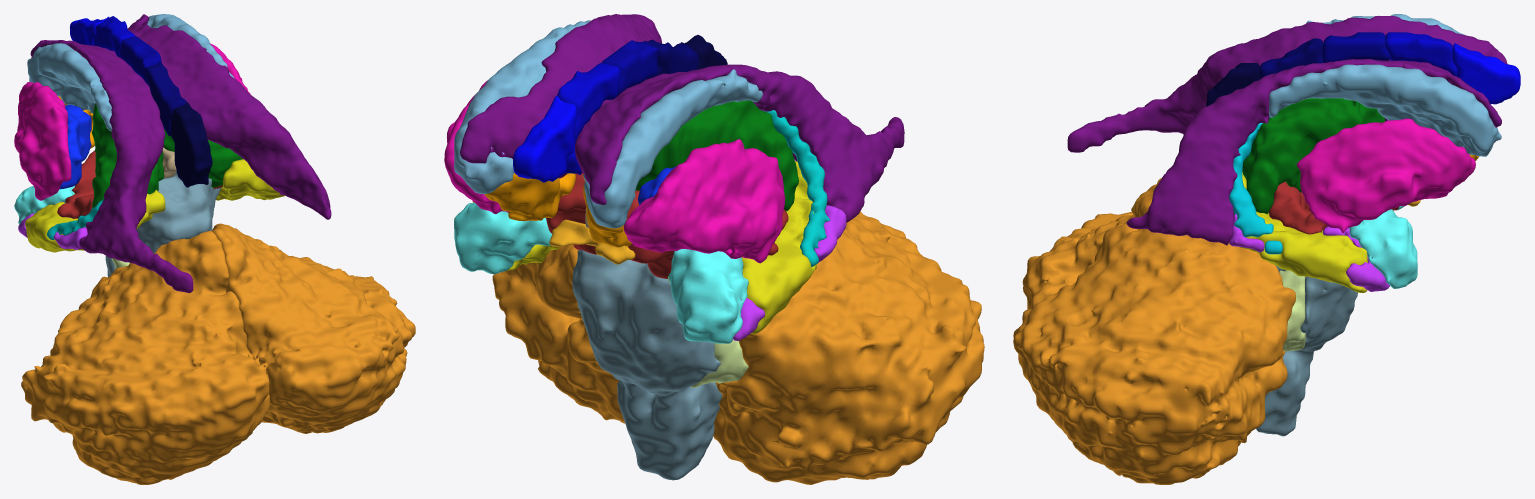
The model's file is structures.glb.
The picture shows the model from 3 angles, left to right: view 1: azimuth 30°, elevation 25°; view 2: azimuth 150°, elevation 25°; view 3: azimuth 270°, elevation 25°; orthographic projection. The views are drawn at different scales.
Parts seen in each view (by area): view 1: aseg:left:8, aseg:right:47, aseg:right:43, aseg:left:4, aseg:left:12, aseg:midline:16, aseg:left:11, aseg:midline:251, aseg:left:10, aseg:left:17, aseg:right:53, aseg:left:13 (+10 smaller); view 2: aseg:left:8, aseg:midline:16, aseg:left:4, aseg:left:12, aseg:right:47, aseg:right:43, aseg:left:11, aseg:left:18, aseg:left:10, aseg:right:50, aseg:left:17, aseg:right:54 (+14 smaller); view 3: aseg:right:47, aseg:right:43, aseg:right:51, aseg:right:50, aseg:left:4, aseg:right:49, aseg:midline:16, aseg:right:53, aseg:left:8, aseg:right:54, aseg:midline:255, aseg:right:63 (+7 smaller).
Part boxes in pixels (x1=…): aseg:left:8: x1=21, y1=231, x2=269, y2=484; aseg:right:47: x1=212, y1=223, x2=415, y2=433; aseg:right:43: x1=127, y1=14, x2=331, y2=219; aseg:left:4: x1=30, y1=40, x2=193, y2=293; aseg:left:12: x1=14, y1=82, x2=71, y2=200; aseg:midline:16: x1=105, y1=171, x2=221, y2=277; aseg:left:11: x1=27, y1=43, x2=112, y2=131; aseg:midline:251: x1=170, y1=102, x2=212, y2=187; aseg:left:10: x1=92, y1=103, x2=164, y2=207; aseg:left:17: x1=25, y1=190, x2=165, y2=252; aseg:right:53: x1=216, y1=159, x2=285, y2=200; aseg:left:13: x1=59, y1=104, x2=91, y2=189; aseg:left:8: x1=713, y1=211, x2=984, y2=484; aseg:midline:16: x1=572, y1=249, x2=722, y2=480; aseg:left:4: x1=575, y1=64, x2=904, y2=222; aseg:left:12: x1=623, y1=139, x2=785, y2=263; aseg:right:47: x1=492, y1=244, x2=625, y2=423; aseg:right:43: x1=460, y1=14, x2=661, y2=178; aseg:left:11: x1=583, y1=69, x2=762, y2=228; aseg:left:18: x1=668, y1=249, x2=748, y2=343; aseg:left:10: x1=636, y1=100, x2=798, y2=211; aseg:right:50: x1=454, y1=20, x2=590, y2=194; aseg:left:17: x1=667, y1=161, x2=816, y2=334; aseg:right:54: x1=454, y1=202, x2=552, y2=274; aseg:right:47: x1=1013, y1=195, x2=1295, y2=484; aseg:right:43: x1=1126, y1=59, x2=1501, y2=245; aseg:right:51: x1=1296, y1=118, x2=1475, y2=232; aseg:right:50: x1=1268, y1=64, x2=1501, y2=156; aseg:left:4: x1=1067, y1=16, x2=1507, y2=152; aseg:right:49: x1=1242, y1=98, x2=1385, y2=214; aseg:midline:16: x1=1256, y1=265, x2=1357, y2=436; aseg:right:53: x1=1240, y1=172, x2=1367, y2=292; aseg:left:8: x1=1022, y1=178, x2=1161, y2=309; aseg:right:54: x1=1349, y1=209, x2=1417, y2=288; aseg:midline:255: x1=1452, y1=43, x2=1520, y2=104; aseg:right:63: x1=1229, y1=117, x2=1282, y2=254.
Size of the model in its own units: 0.1019 by 0.0998 by 0.1133.
